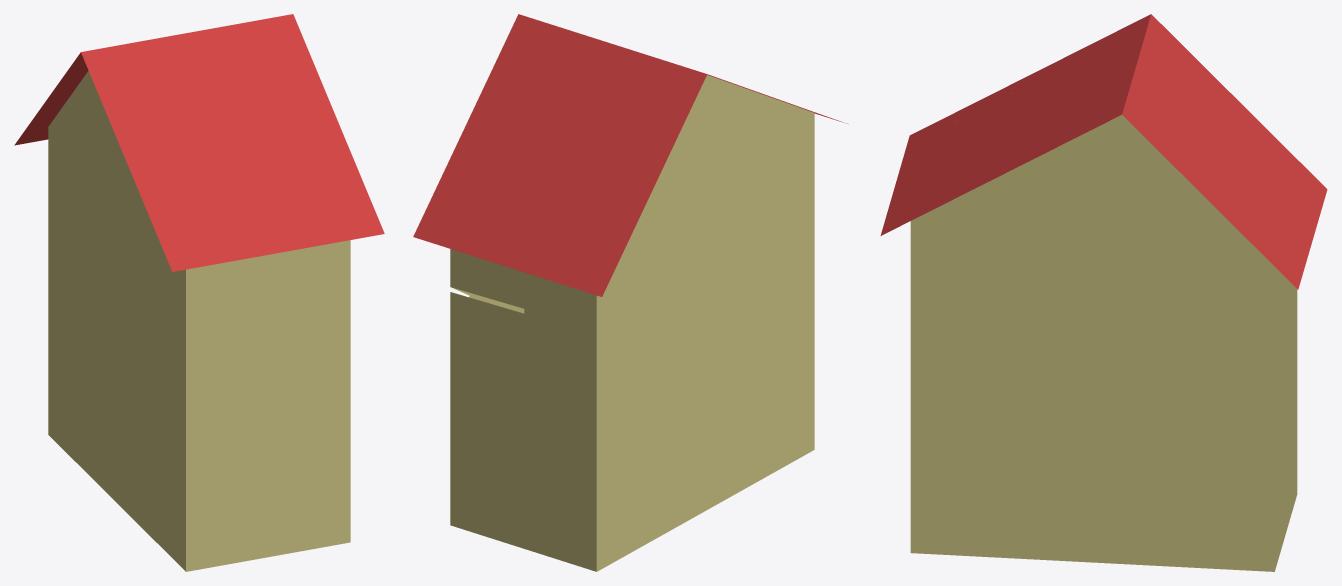
The picture shows the model from 3 angles, left to right: view 1: azimuth 30°, elevation 25°; view 2: azimuth 150°, elevation 25°; view 3: azimuth 270°, elevation 25°; orthographic projection. The views are drawn at different scales.
Size of the model in its own units: 5.36 by 8.27 by 9.41.
